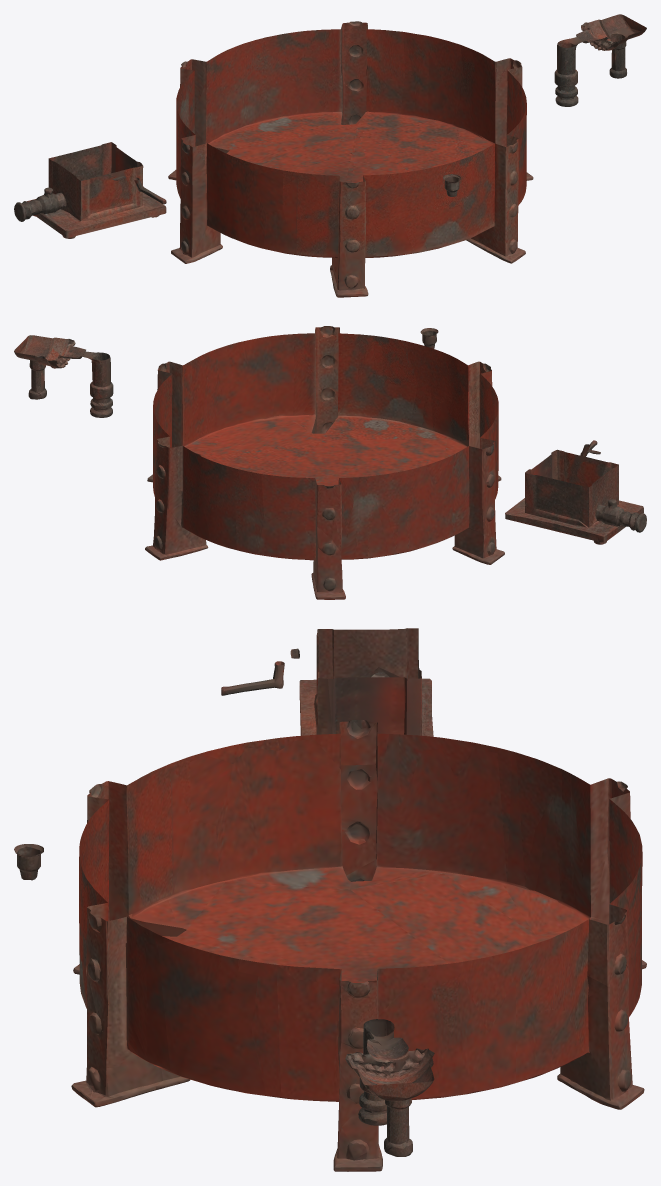
File: cilindro_base_bassa.glb
3 renders of one model, top to bottom at view 1: azimuth 30°, elevation 25°; view 2: azimuth 150°, elevation 25°; view 3: azimuth 270°, elevation 25°, orthographic. The views are drawn at different scales.
Parts seen in each view (by area): view 1: cilindro_base_bassa; view 2: cilindro_base_bassa; view 3: cilindro_base_bassa.
Part boxes in pixels (bbox=[...]): cilindro_base_bassa: bbox=[14, 14, 646, 297]; cilindro_base_bassa: bbox=[14, 326, 646, 599]; cilindro_base_bassa: bbox=[14, 628, 646, 1171].
Bounding box in the file's own units: 2.29 × 0.4 × 1.25.
1 material, 1 textured.
